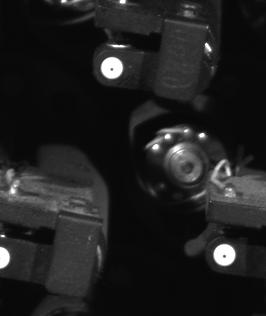fiber: (206, 242, 246, 273), (96, 55, 132, 82), (1, 241, 20, 274)
